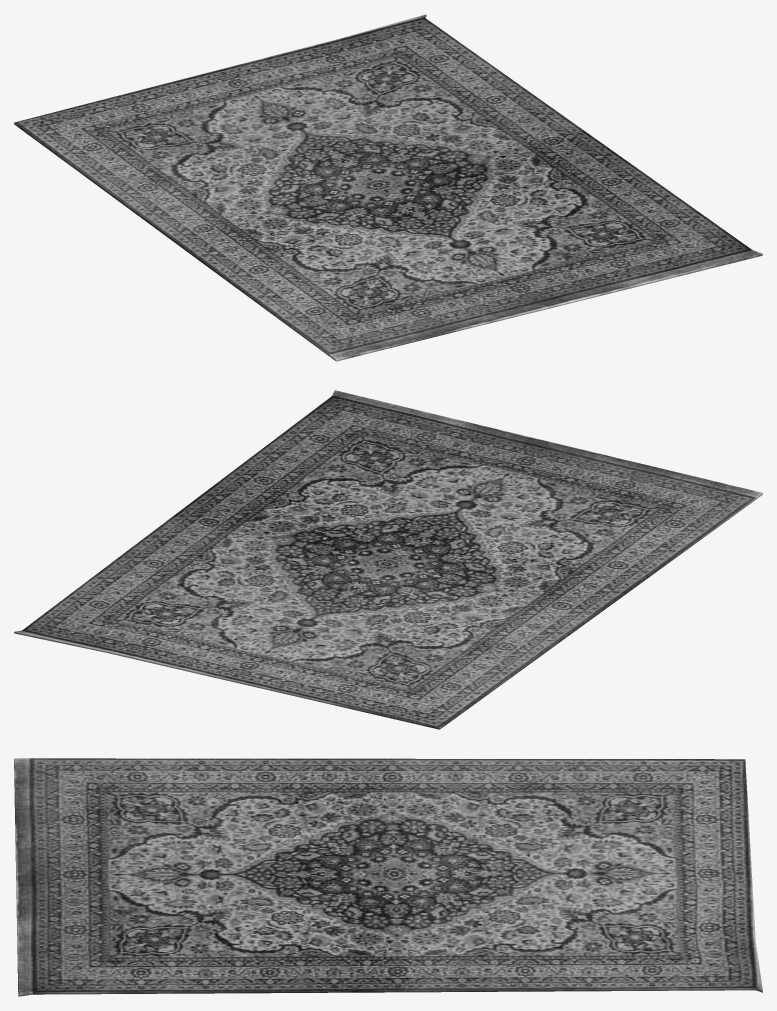
Rendered from ARC0510154.fbx.
The picture shows the model from 3 angles, top to bottom: view 1: azimuth 30°, elevation 25°; view 2: azimuth 150°, elevation 25°; view 3: azimuth 270°, elevation 25°; orthographic projection. The views are drawn at different scales.
Parts seen in each view (by area): view 1: smARC0510154; view 2: smARC0510154; view 3: smARC0510154.
Boxes of the visible parts, x1,y1,x2,y2 form: smARC0510154: (14, 14, 762, 361); smARC0510154: (14, 390, 762, 729); smARC0510154: (14, 758, 762, 996).
Bounding box in the file's own units: 270 × 1.28 × 362.
Materials: 1 (1 with a texture image).
